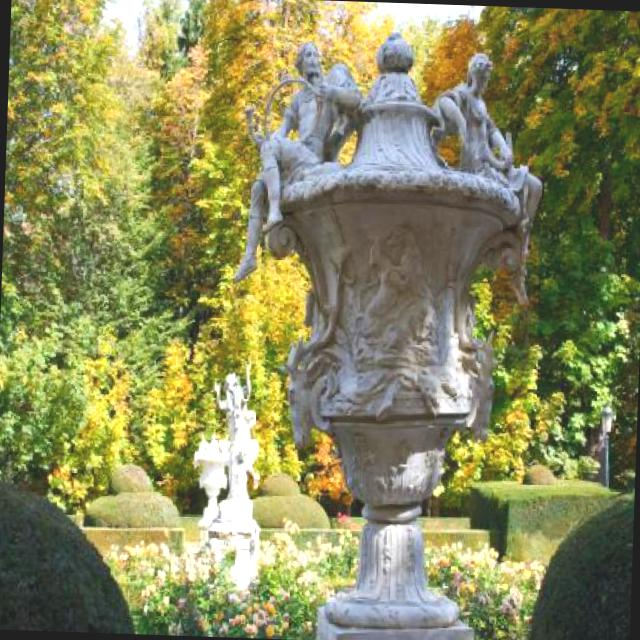Person: (232, 35, 364, 292), (426, 47, 550, 308)
